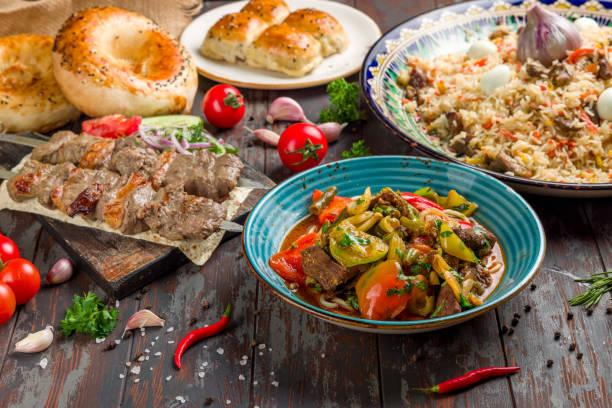Braised Crucian Carp: (241, 154, 544, 331), (1, 117, 272, 298), (362, 0, 608, 198), (179, 0, 376, 90)
